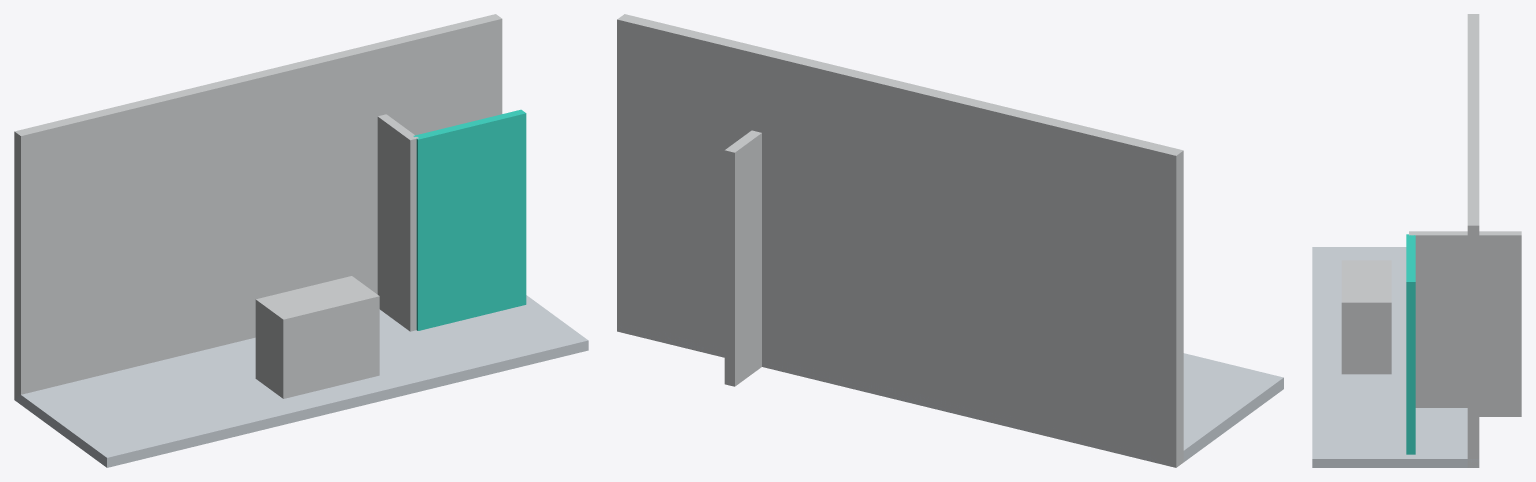
The picture shows the model from 3 angles, left to right: view 1: azimuth 30°, elevation 25°; view 2: azimuth 150°, elevation 25°; view 3: azimuth 270°, elevation 25°; orthographic projection. The views are drawn at different scales.
Parts seen in each view (by area): view 1: Exhibition Booth Concept; view 2: Exhibition Booth Concept; view 3: Exhibition Booth Concept.
Boxes of the visible parts, x1=… form: Exhibition Booth Concept: x1=14, y1=14, x2=588, y2=467; Exhibition Booth Concept: x1=617, y1=14, x2=1283, y2=467; Exhibition Booth Concept: x1=1312, y1=14, x2=1521, y2=467.
Bounding box in the file's own units: 6 × 3.2 × 2.5.
